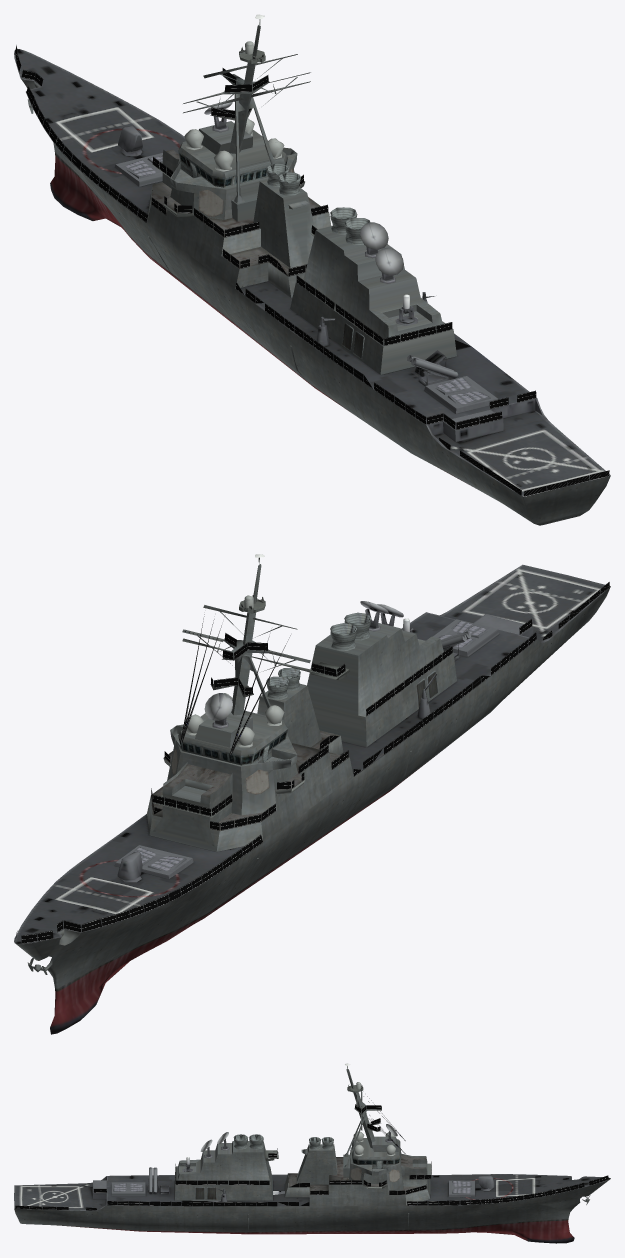
File: xyj.gltf
3 views of the same model, one above another, from view 1: azimuth 30°, elevation 25°; view 2: azimuth 150°, elevation 25°; view 3: azimuth 270°, elevation 25° (orthographic). The views are drawn at different scales.
Parts seen in each view (by area): view 1: arleigh_burke_05; view 2: arleigh_burke_05; view 3: arleigh_burke_05.
Part boxes in pixels (left/top/right/bottom): arleigh_burke_05: left=14, top=14, right=610, bottom=525; arleigh_burke_05: left=14, top=554, right=610, bottom=1034; arleigh_burke_05: left=14, top=1063, right=610, bottom=1243.
Size of the model in its own units: 22.9 by 56.25 by 170.
7 materials, 7 textured.
